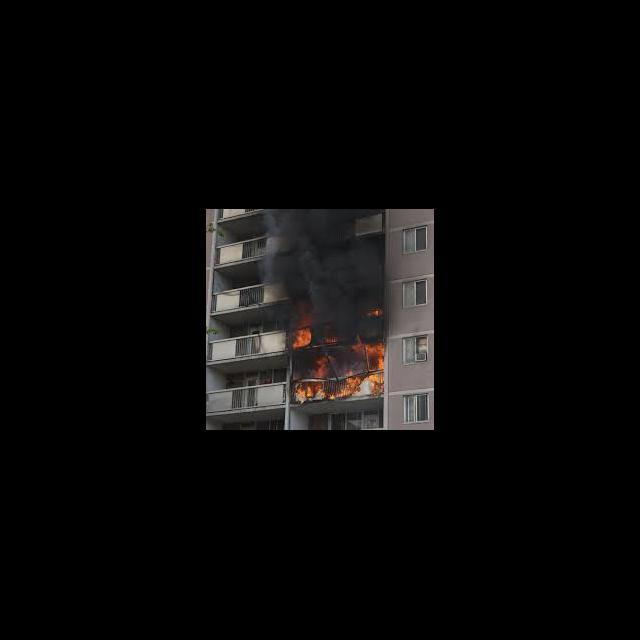Fire: (294, 380, 328, 403), (334, 372, 364, 398), (292, 322, 316, 348), (368, 346, 386, 370), (315, 357, 334, 377), (372, 372, 386, 398), (367, 309, 381, 318)
Smoke: (260, 220, 378, 304), (318, 304, 360, 340), (286, 305, 318, 321), (362, 324, 382, 340)
